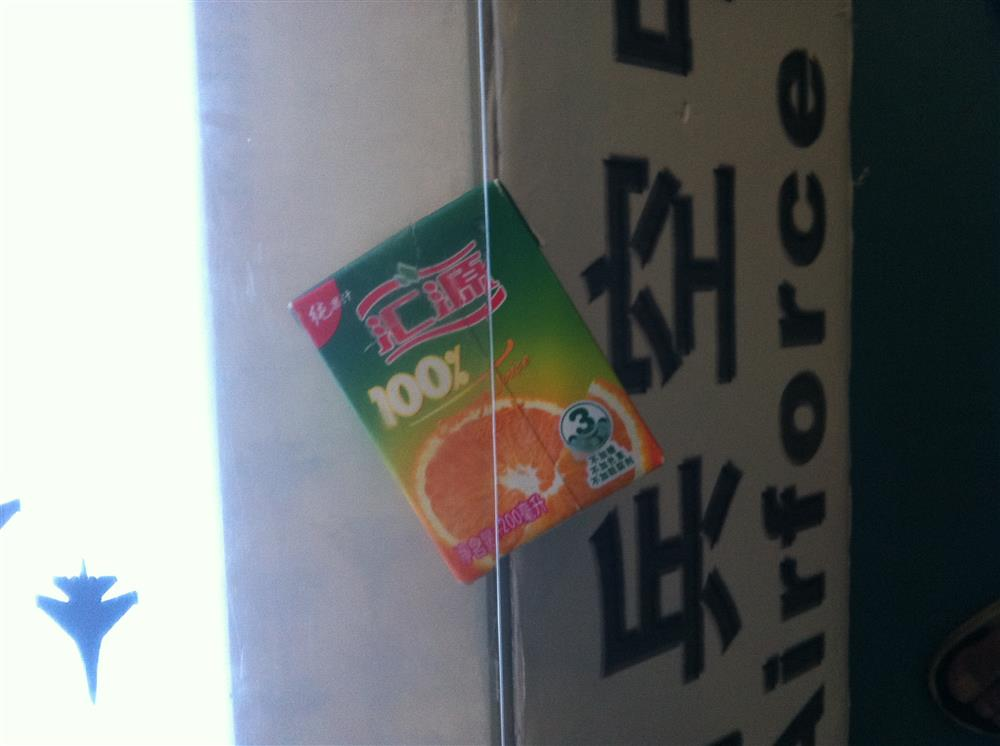huiyuan_juice: (337, 226, 650, 539)
